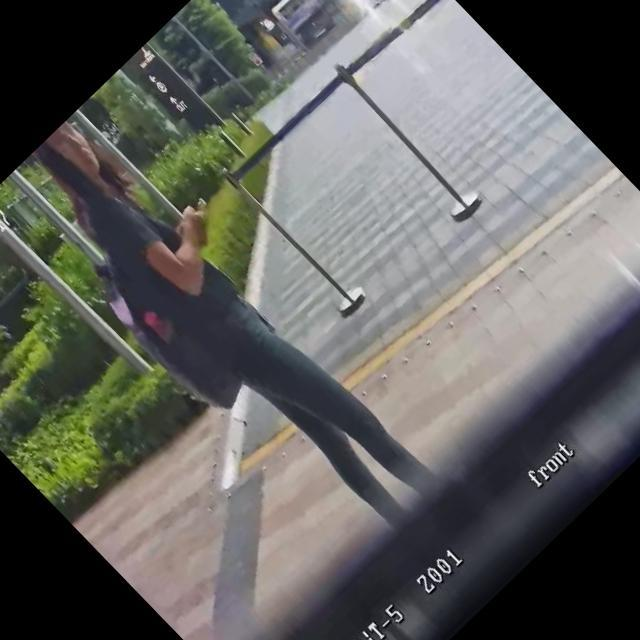person: (20, 97, 458, 546)
